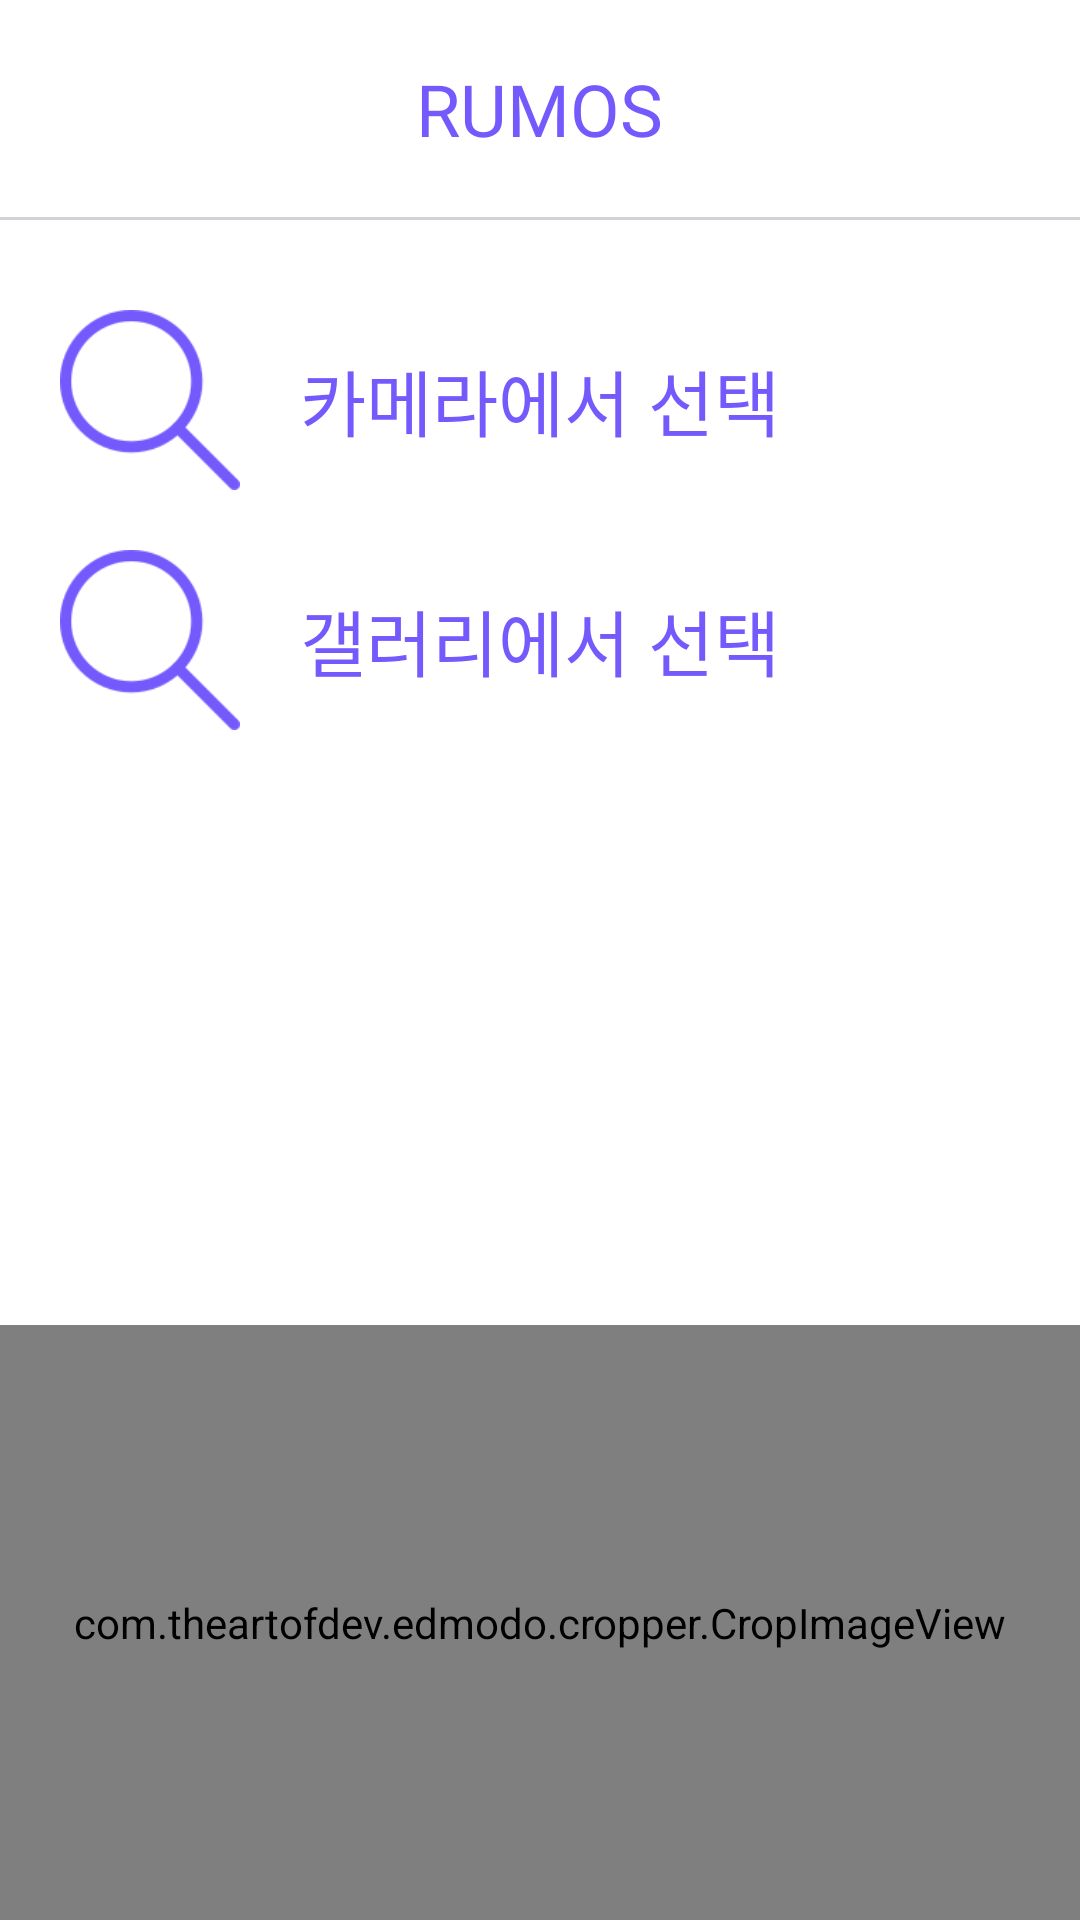

Locate icon controls on the screen. Image size 1080px×1920px, boxes as bbox(x1, y1, x2, y2).
search: bbox(60, 310, 240, 490), bbox(60, 550, 240, 730)
